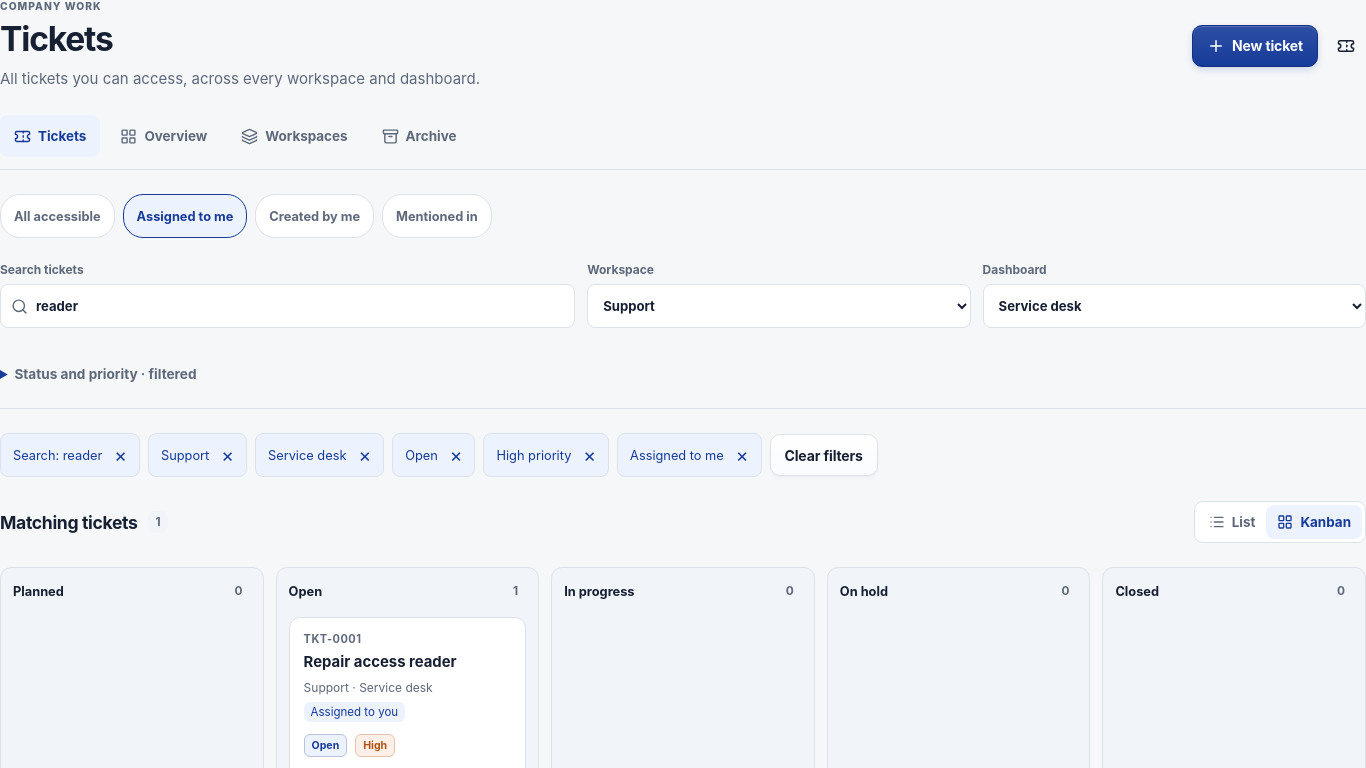
it: Company ticket workspace › shows retained filter chips in Workspaces and clears them without losing the layout
This screenshot has width=1366, height=768.
Step 1. Click the button "Workspaces" → (294, 136), box [227,115,362,157]
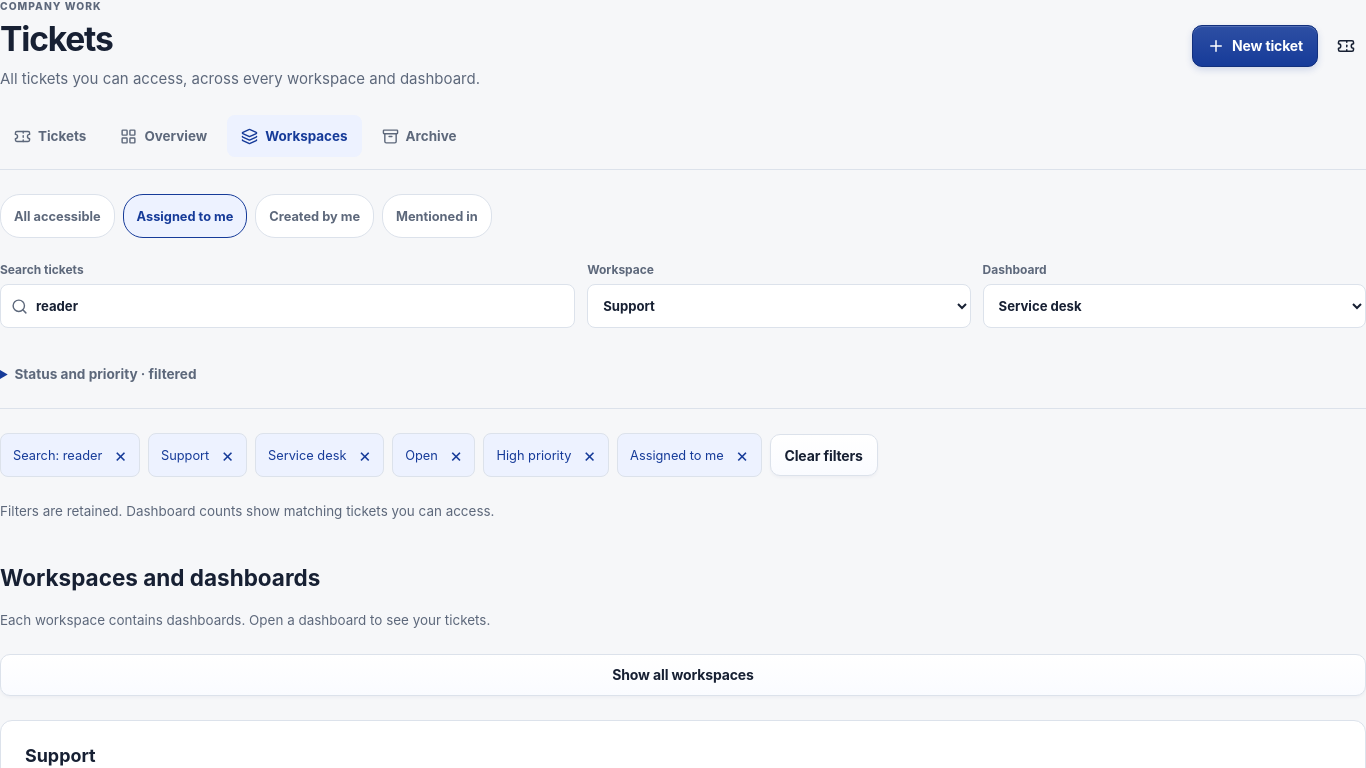
Expected: the field labelled "Search tickets" holds "reader", [0,284,575,328]
Result: the text "Dashboard counts show matching tickets" is shown at [0,503,494,519]
Step 2. Click the button "Clear filters" → (824, 455), box [770,434,878,476]
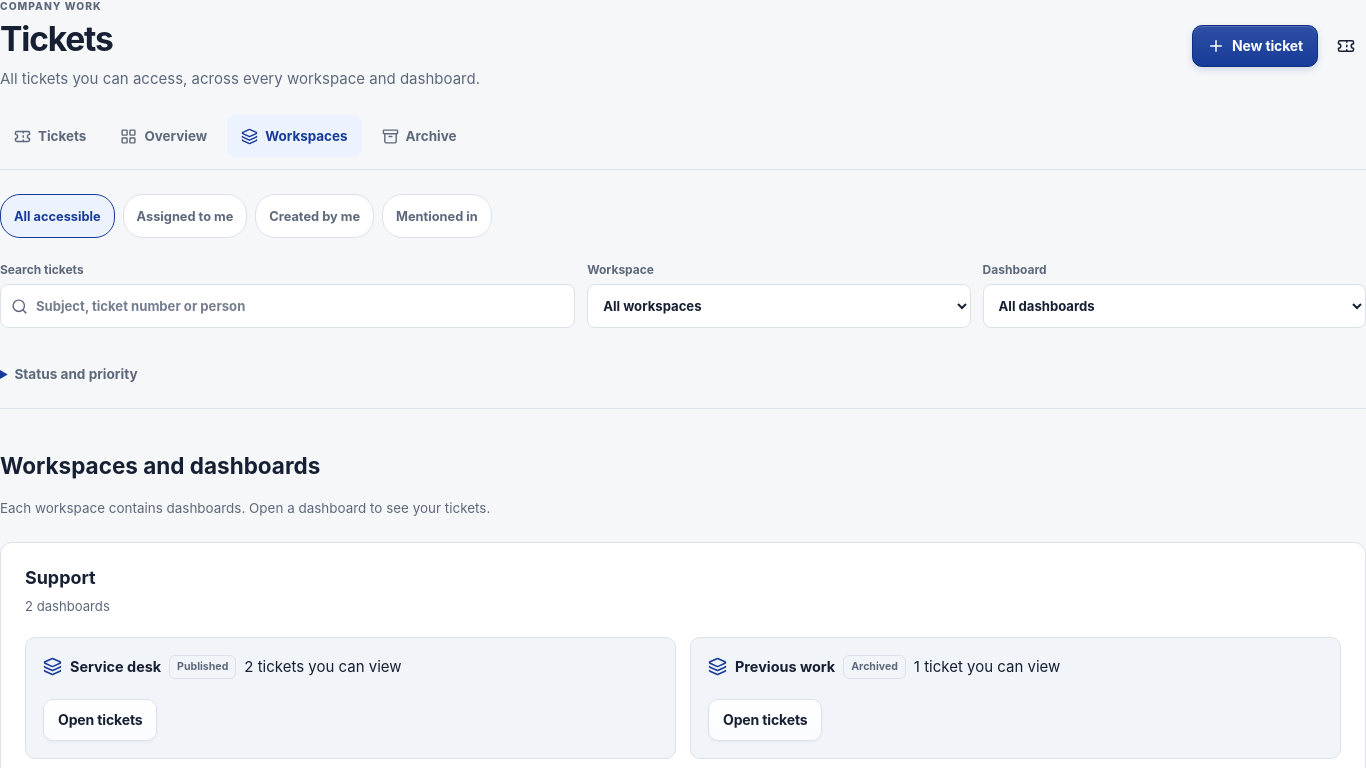
Result: the field labelled "Search tickets" is empty at [0,284,575,328]
Step 3. Click the button "Tickets" → (50, 136), box [0,115,100,157]
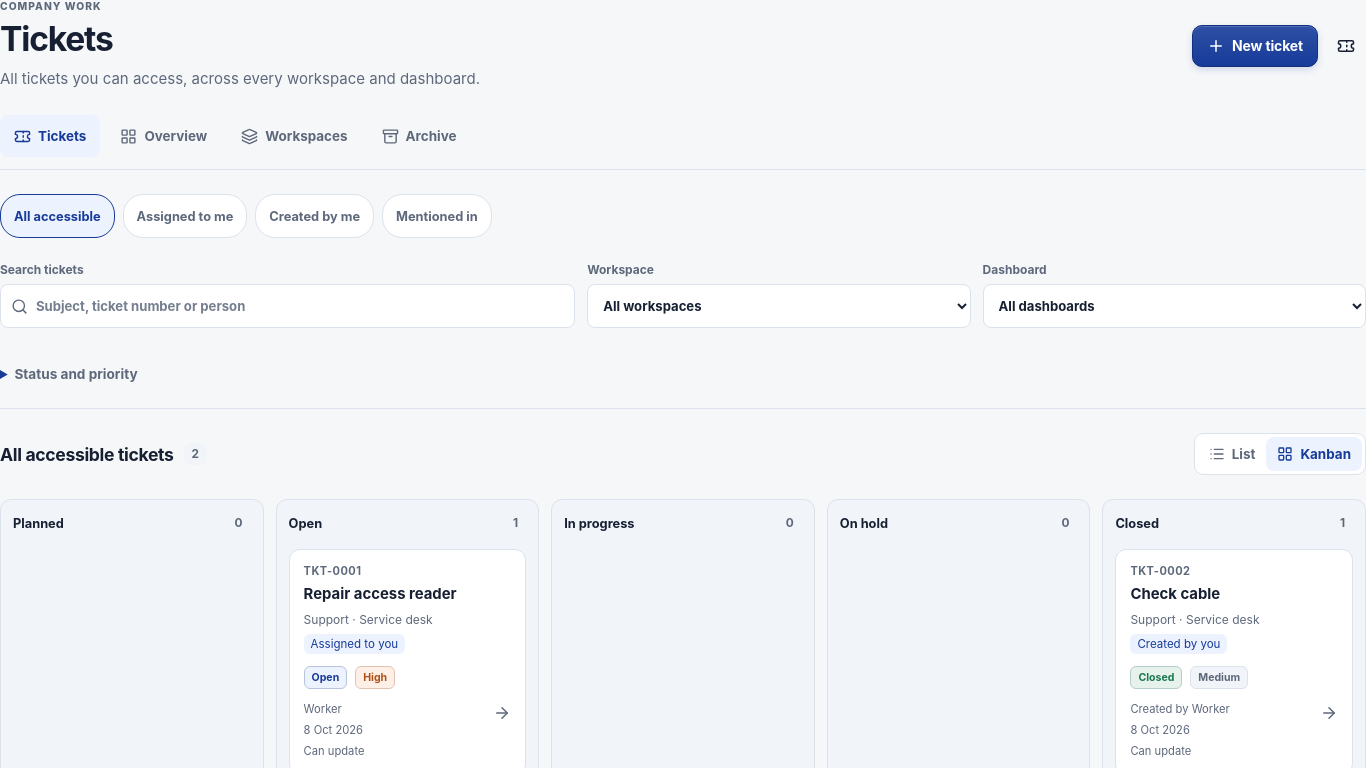
Result: the link "Check cable" is shown at [1130,585,1220,603]
